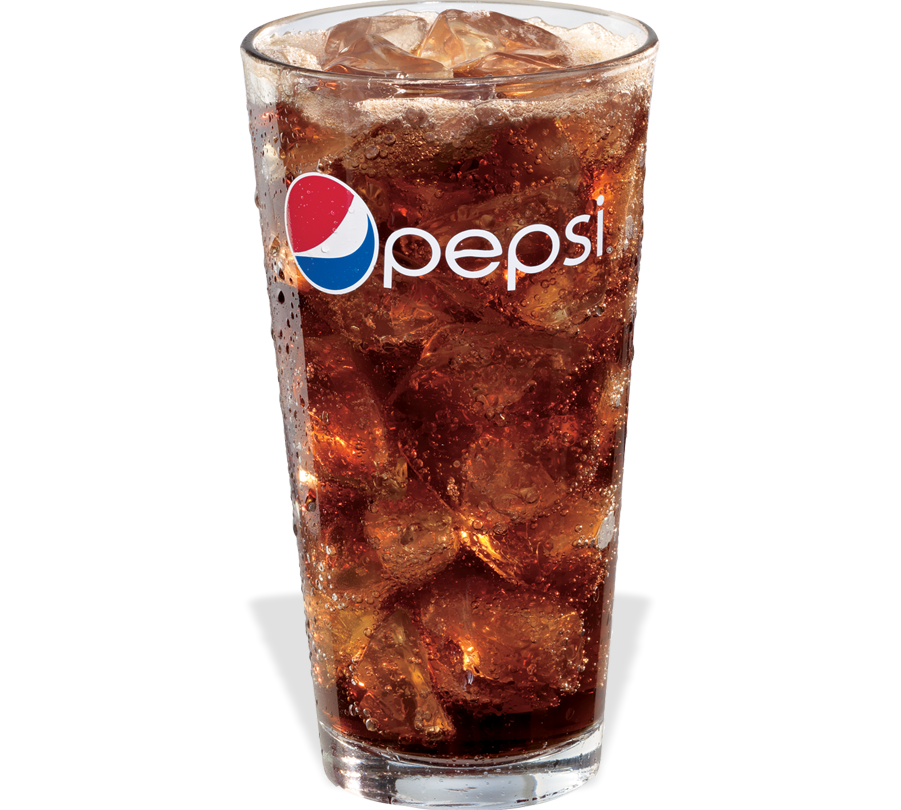pepsi: (280, 172, 380, 294)
